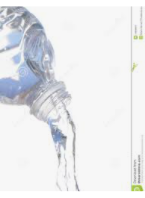Bottle: (1, 6, 71, 122)
